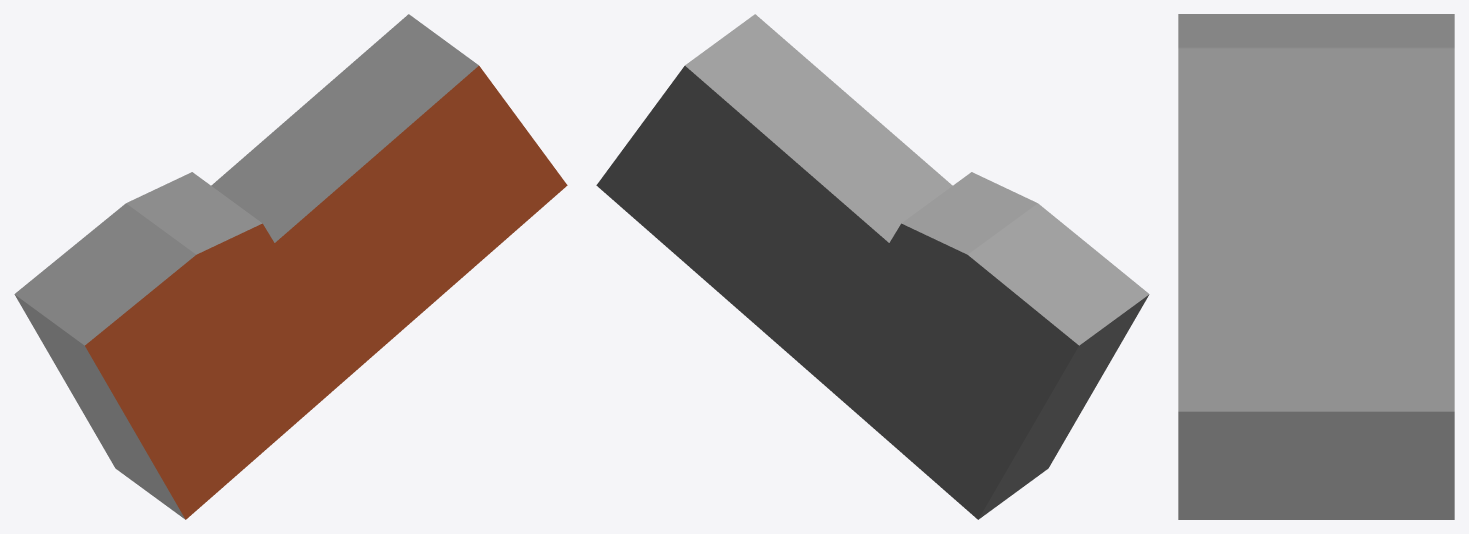
The model's file is construction_2280_assumed_A_Casa_h6m.obj.
3 views of the same model, side by side, from view 1: azimuth 30°, elevation 25°; view 2: azimuth 150°, elevation 25°; view 3: azimuth 270°, elevation 25° (orthographic). The views are drawn at different scales.
Parts seen in each view (by area): view 1: construction_2280_assumed_A_Casa; view 2: construction_2280_assumed_A_Casa; view 3: construction_2280_assumed_A_Casa.
Part boxes in pixels (bbox=[...]): construction_2280_assumed_A_Casa: bbox=[14, 14, 567, 519]; construction_2280_assumed_A_Casa: bbox=[596, 14, 1149, 519]; construction_2280_assumed_A_Casa: bbox=[1178, 14, 1454, 519].
Bounding box in the file's own units: 23.77 × 18.01 × 6.
